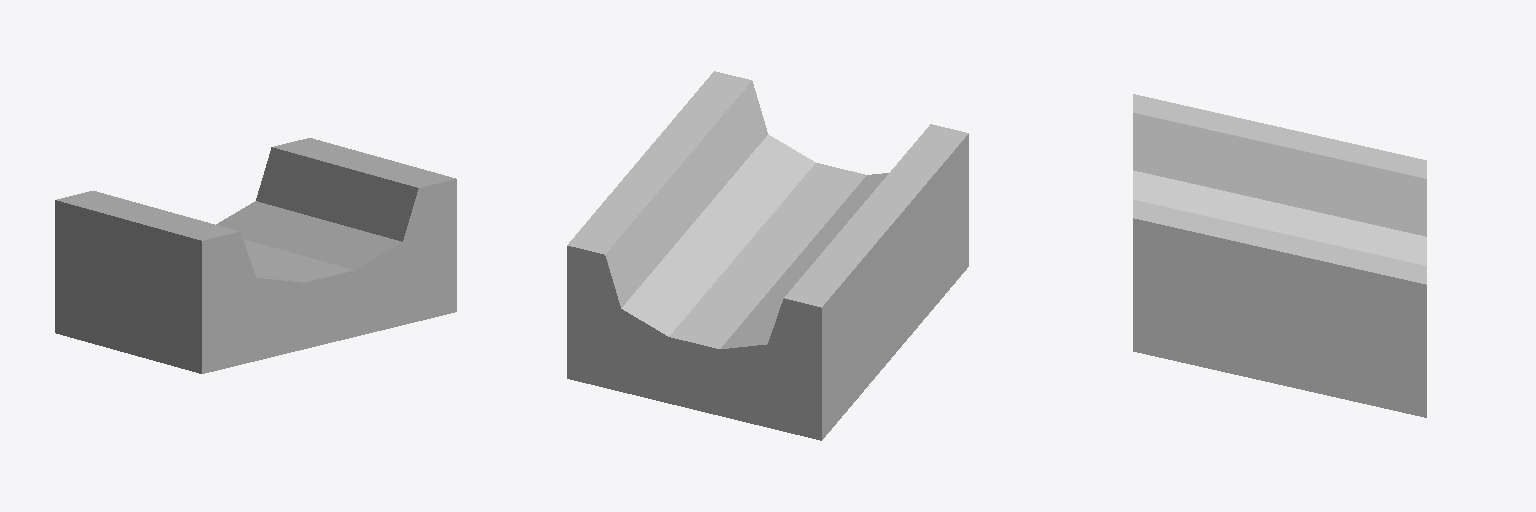
File: slant-a.obj
3 views of the same model, side by side, from view 1: azimuth 30°, elevation 25°; view 2: azimuth 150°, elevation 25°; view 3: azimuth 270°, elevation 25° (orthographic).
Parts seen in each view (by area): view 1: slant-a; view 2: slant-a; view 3: slant-a.
Boxes of the visible parts, x1,y1,x2,y2 form: slant-a: [55, 138, 456, 373]; slant-a: [567, 71, 968, 440]; slant-a: [1133, 94, 1426, 417].
Size of the model in its own units: 1 by 0.75 by 1.